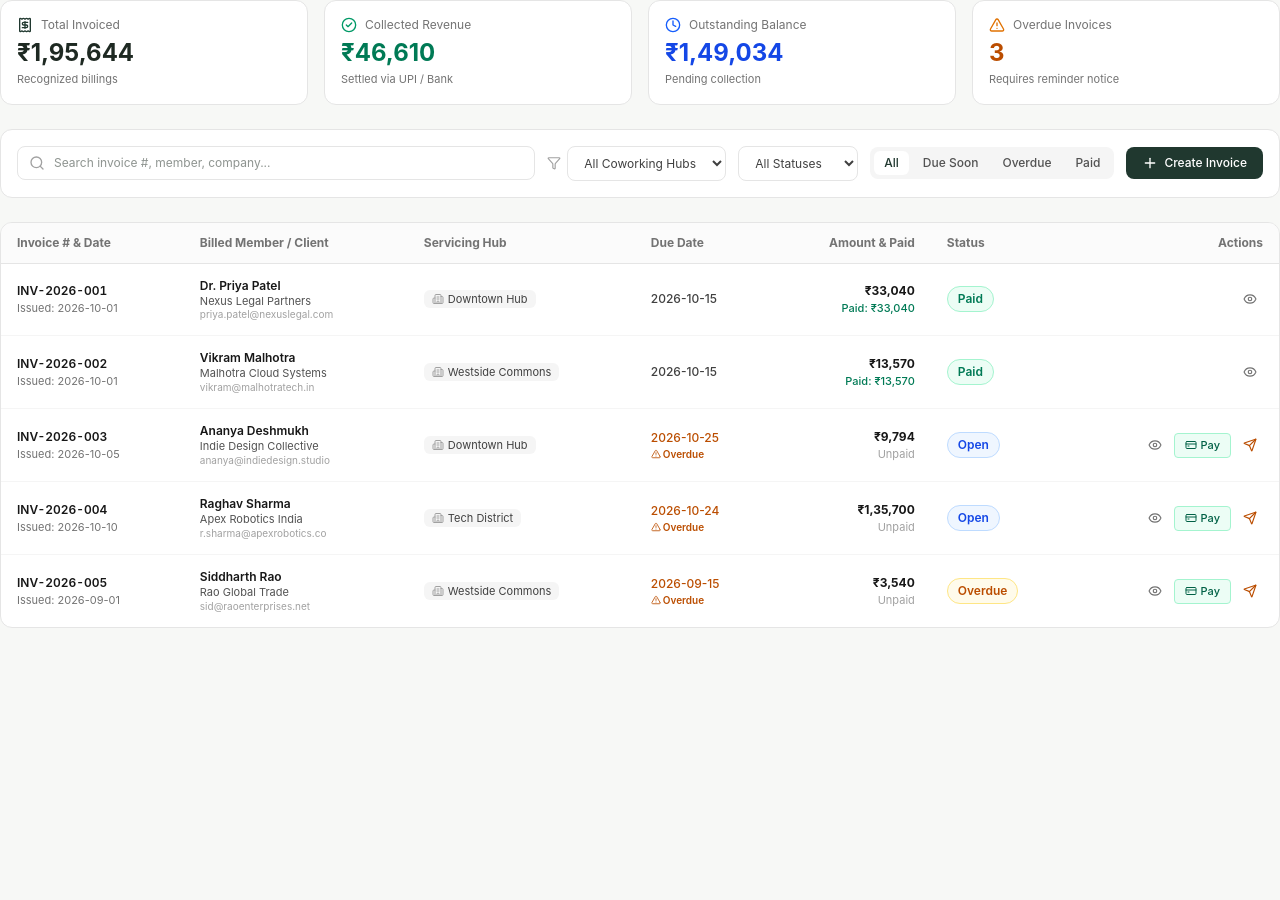
InvoicesDirectory Component › opens invoice detail view when clicking on an invoice row
The image size is (1280, 900).
Click the text "INV-2026-001". click: (62, 291)
box: [17,283,107,298]
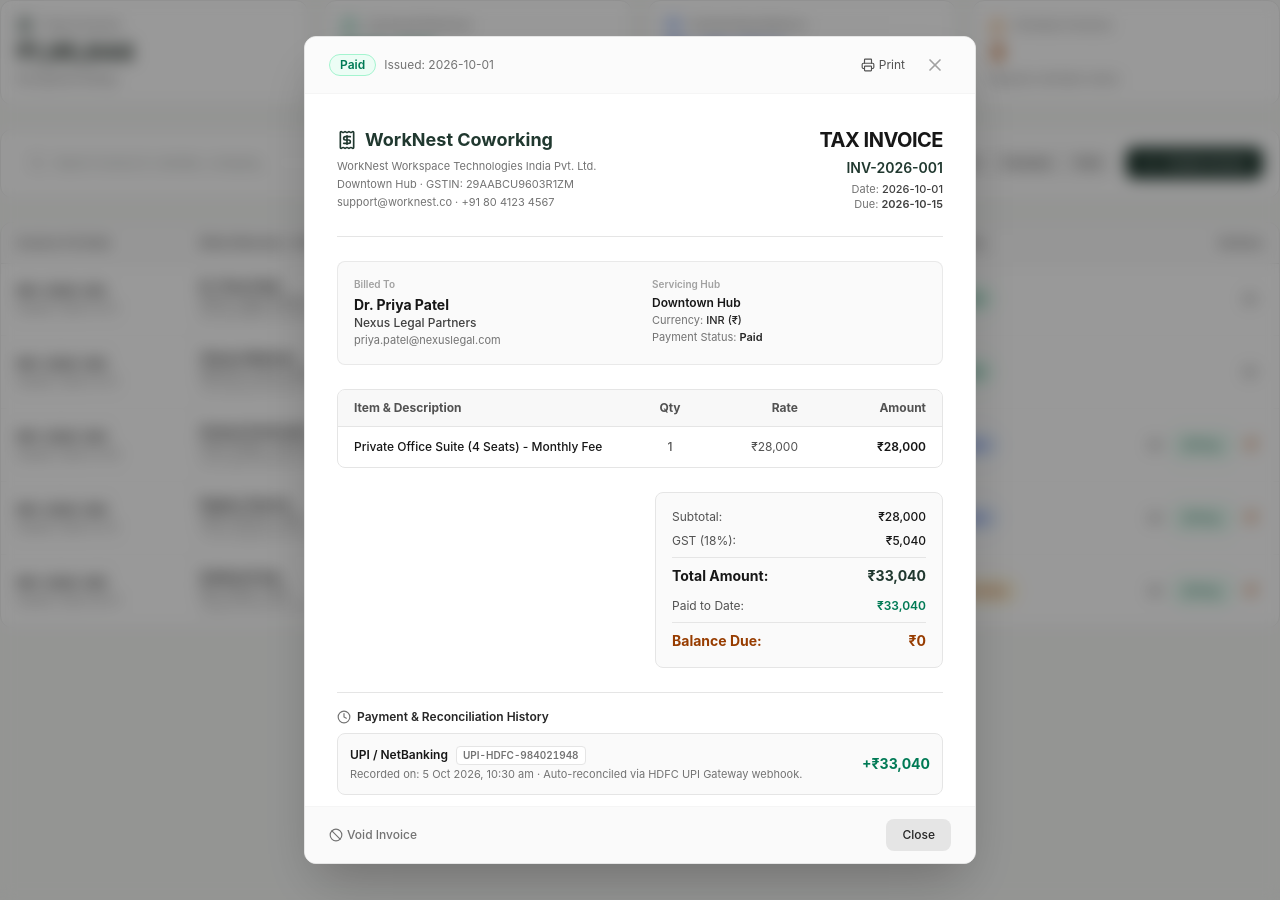
expect the heading "TAX INVOICE" is shown: met, box [820,126,943,154]
expect the text "WorkNest Coworking" is shown: met, box [365,126,553,154]
